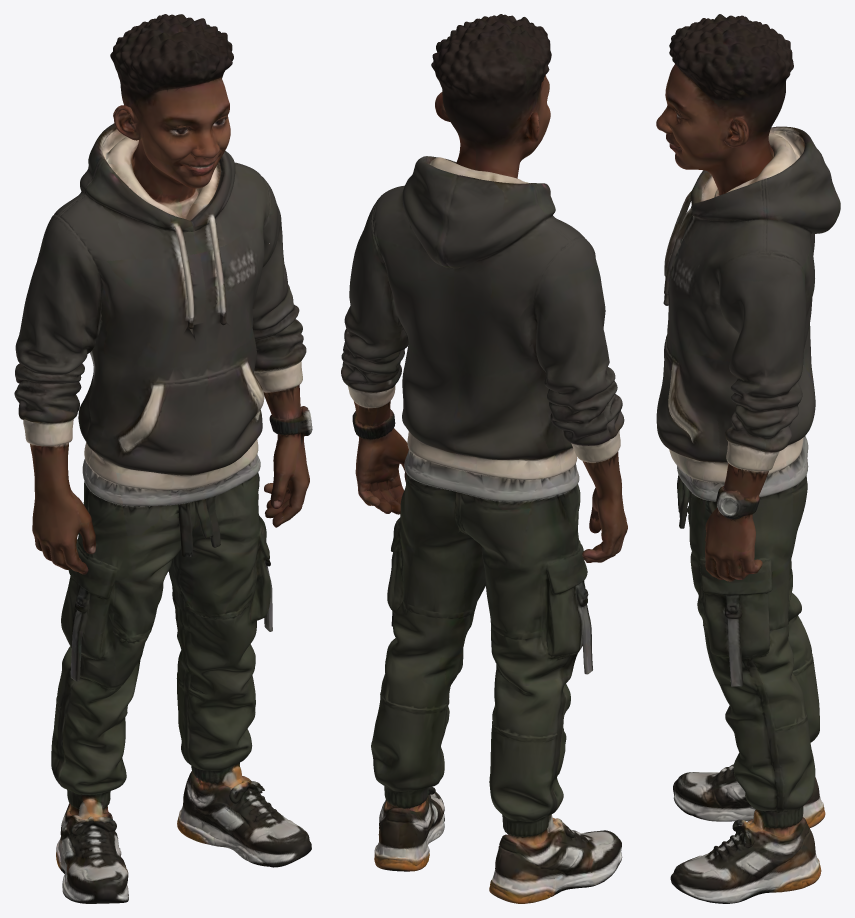
File: 1defoltpersonaj.glb
3 views of the same model, side by side, from view 1: azimuth 30°, elevation 25°; view 2: azimuth 150°, elevation 25°; view 3: azimuth 270°, elevation 25° (orthographic). The views are drawn at different scales.
Visible parts, largest first — view 1: tripo_node_a8e7b730-e822-4166-add3-6888933bed6a; view 2: tripo_node_a8e7b730-e822-4166-add3-6888933bed6a; view 3: tripo_node_a8e7b730-e822-4166-add3-6888933bed6a.
Boxes of the visible parts, left/top/right/bottom form: tripo_node_a8e7b730-e822-4166-add3-6888933bed6a: left=14, top=14, right=312, bottom=903; tripo_node_a8e7b730-e822-4166-add3-6888933bed6a: left=341, top=14, right=627, bottom=903; tripo_node_a8e7b730-e822-4166-add3-6888933bed6a: left=656, top=14, right=840, bottom=903.
Size of the model in its own units: 0.3357 by 0.9796 by 0.1976.
Materials: 1 (1 with a texture image).
